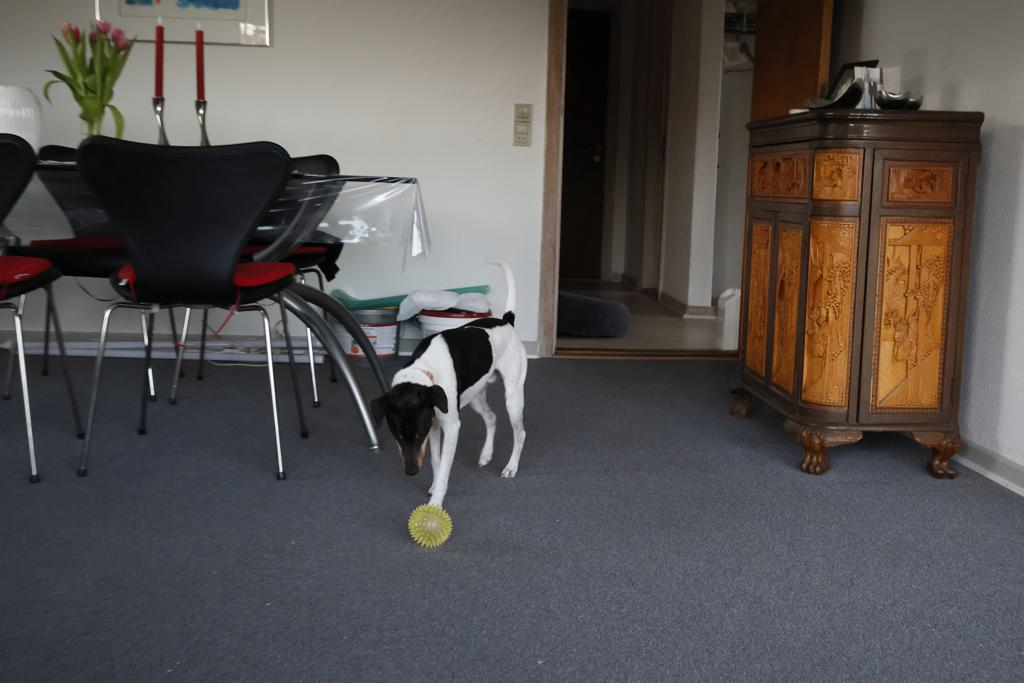Dog: (366, 253, 538, 518)
